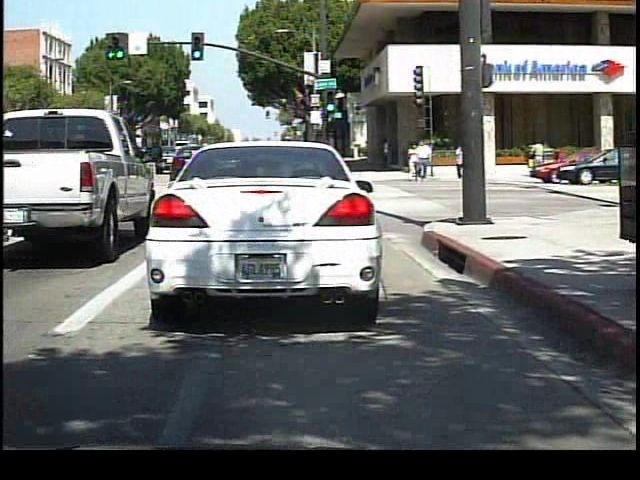person: (526, 135, 548, 176), (450, 136, 468, 182), (415, 136, 433, 181)
